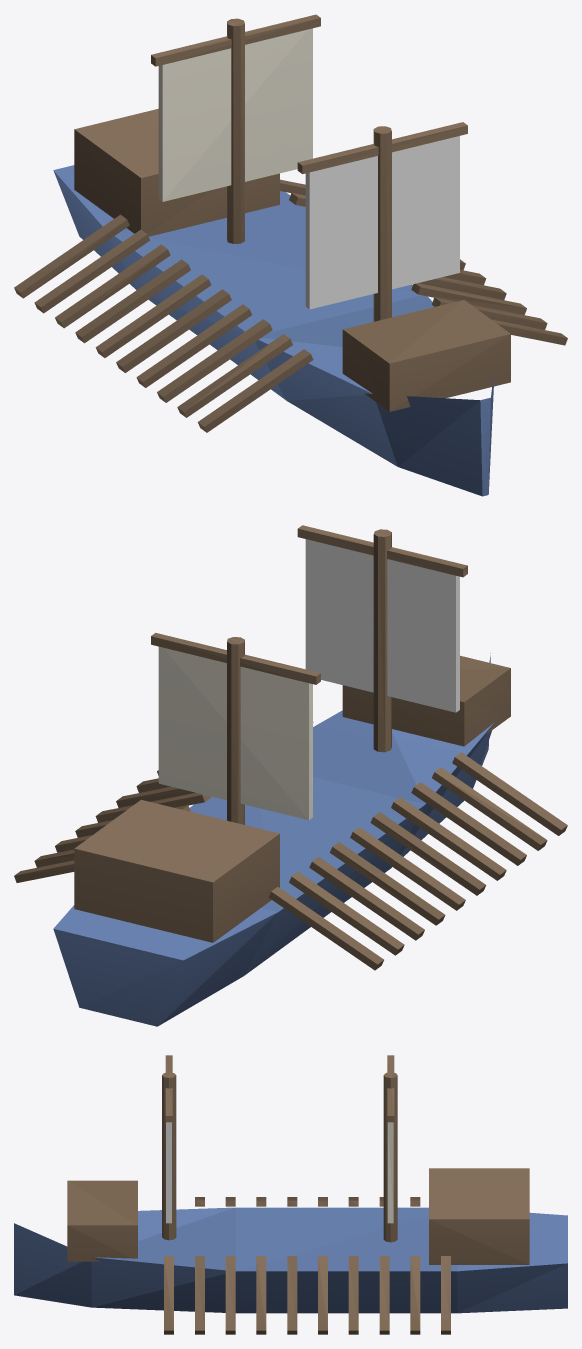
The model's file is Galleass.glb.
3 views of the same model, one above another, from view 1: azimuth 30°, elevation 25°; view 2: azimuth 150°, elevation 25°; view 3: azimuth 270°, elevation 25° (orthographic). The views are drawn at different scales.
Parts seen in each view (by area): view 1: Body; view 2: Body; view 3: Body.
Part boxes in pixels (box(x1,y1,x2,y2)): Body: box(14, 14, 567, 496); Body: box(14, 525, 567, 1026); Body: box(14, 1055, 567, 1334).
Bounding box in the file's own units: 0.6289 × 0.48 × 1.1.
